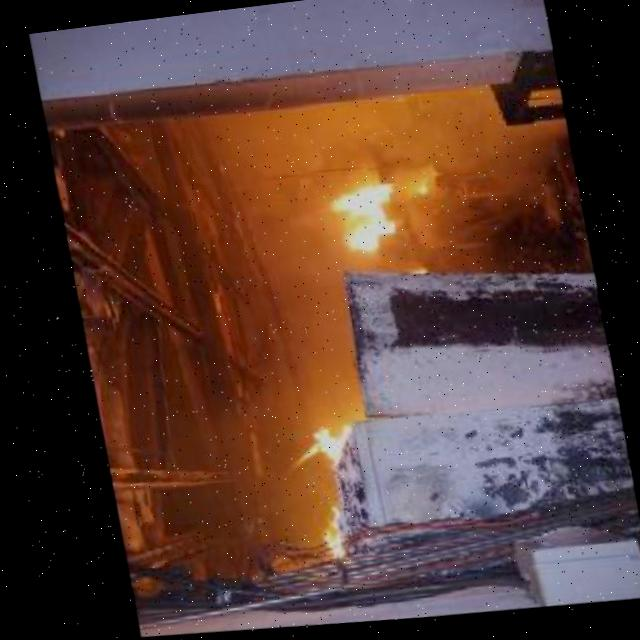fire: (321, 182, 399, 262), (275, 421, 354, 487), (310, 509, 340, 566)
